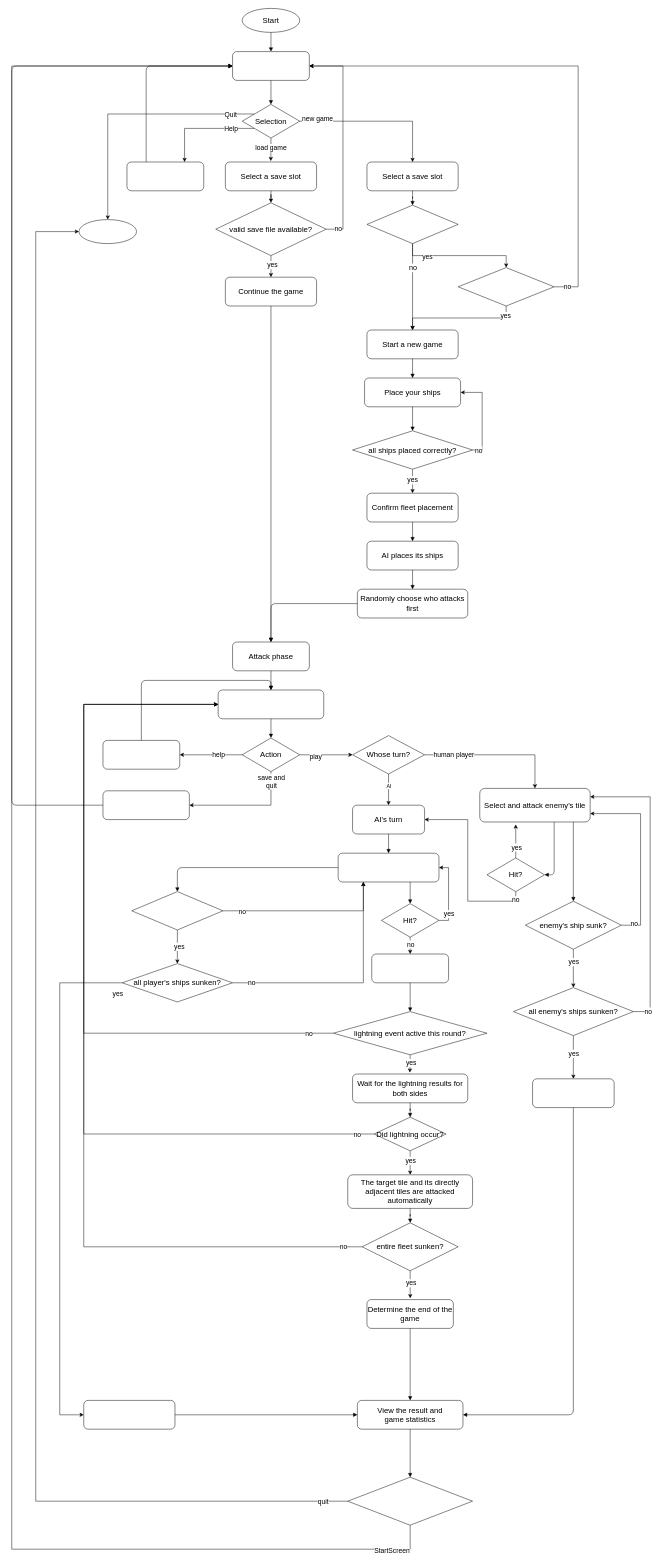
This 662x1563 diagram has some shape labels left out. The centre of each missing label's shape, as x and y in pixels:
"AI attacks the player's grid" belongs at point 388,867.
"Confirm overwrite?" belongs at point 506,286.
"End" belongs at point 107,231.
"Game over: Defeat" belongs at point 129,1414.
"Game over: Victory" belongs at point 573,1093.
"Next round" belongs at point 410,968.
"one of the player's ships sunken?" belongs at point 177,910.
"Return to the StartScreen or quit?" belongs at point 410,1501.
"save slot occupied?" belongs at point 412,224.
"Save the game" belongs at point 145,805.
"Start Screen" belongs at point 270,65.
"View the game board and save status" belongs at point 271,704.
"View the rules" belongs at point 165,176.
"View the rules in HelpScreen" belongs at point 141,754.
